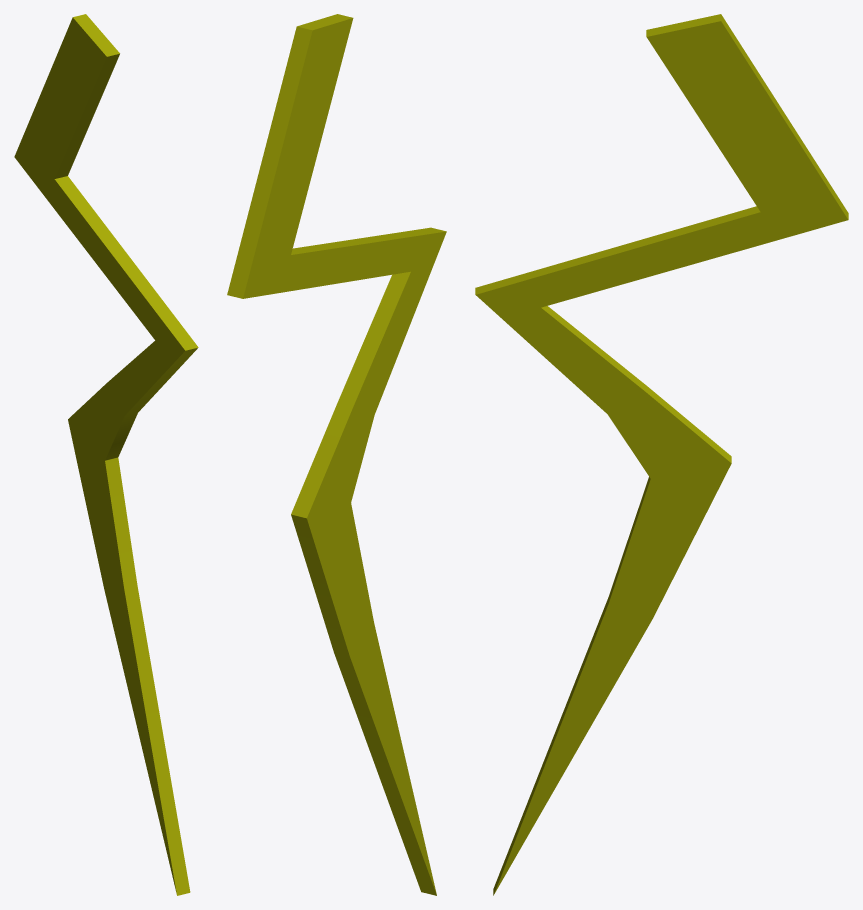
File: Lightning_01.fbx
3 renders of one model, left to right at view 1: azimuth 30°, elevation 25°; view 2: azimuth 150°, elevation 25°; view 3: azimuth 270°, elevation 25°, orthographic. The views are drawn at different scales.
Parts seen in each view (by area): view 1: Lighning_01; view 2: Lighning_01; view 3: Lighning_01.
Part boxes in pixels (x1,y1,x2,y2): Lighning_01: (14,14,198,895); Lighning_01: (227,14,446,895); Lighning_01: (475,14,848,895).
Size of the model in its own units: 39.18 by 2251 by 870.
